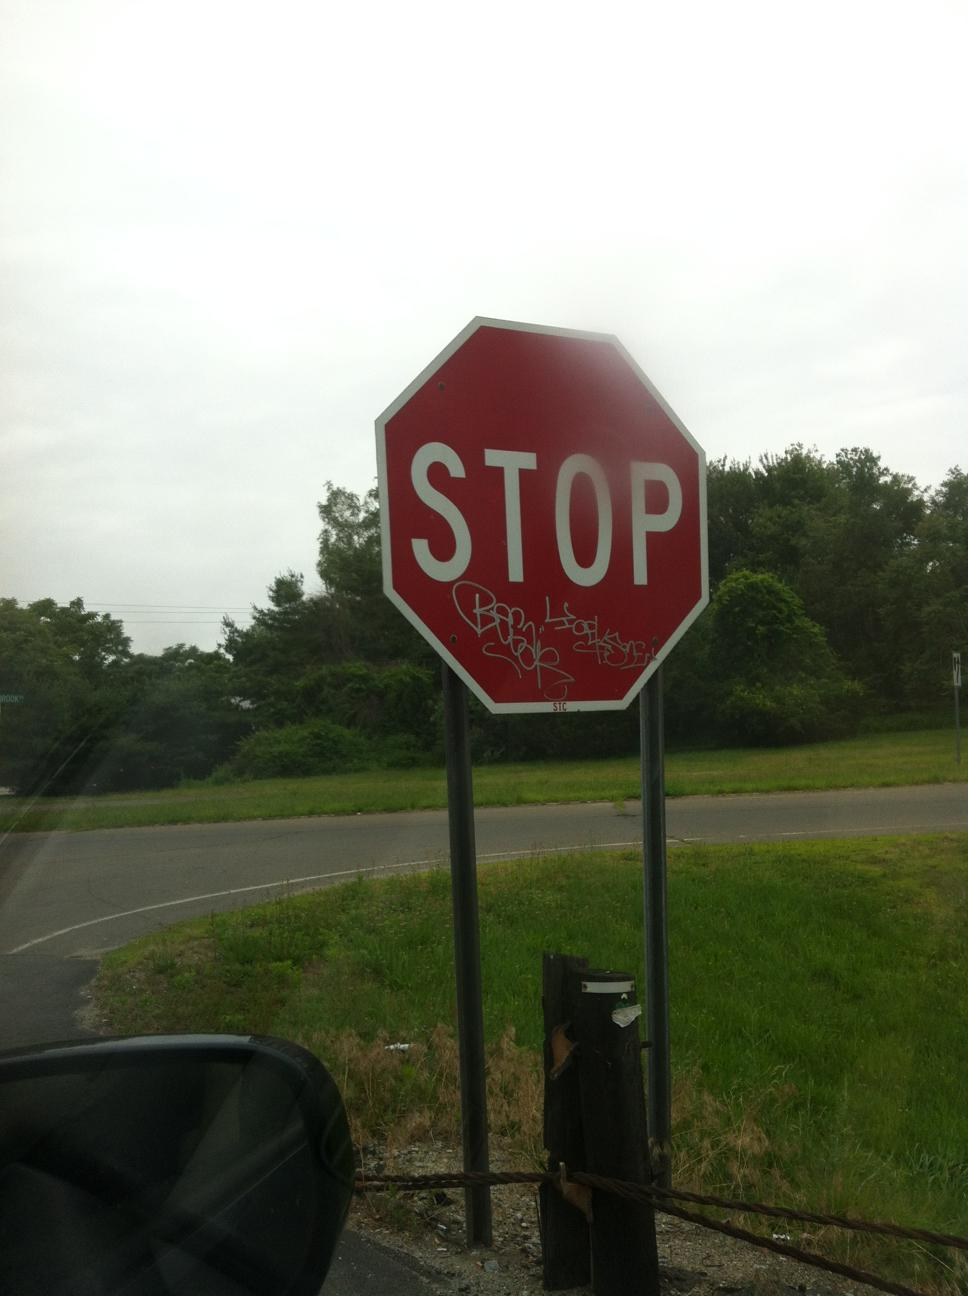stop: (367, 316, 726, 712)
